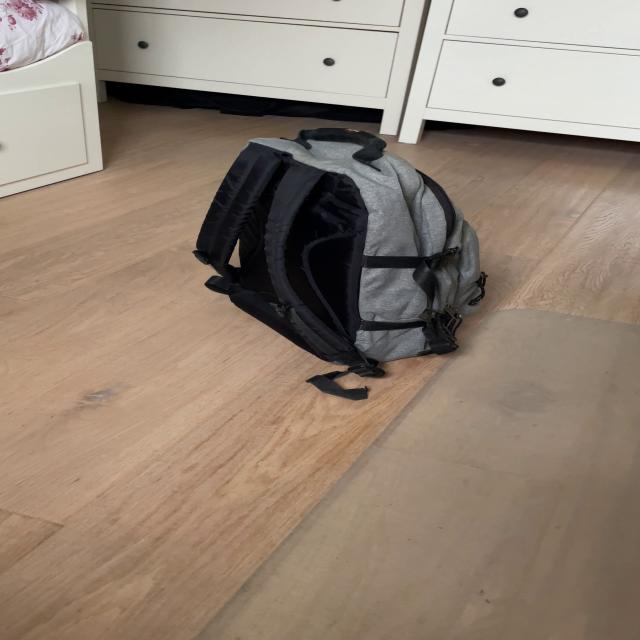backpack: (180, 114, 500, 377)
